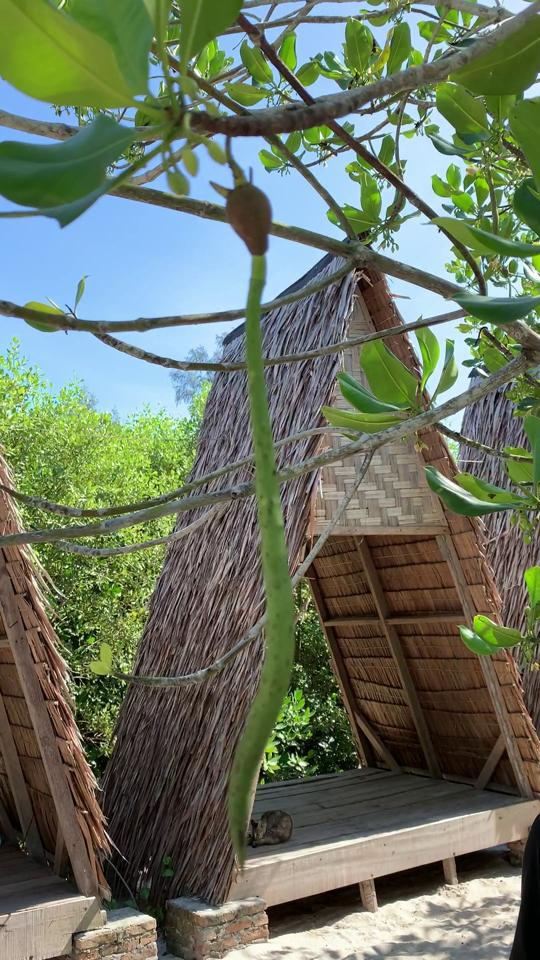setengah matang: (222, 166, 304, 881)
